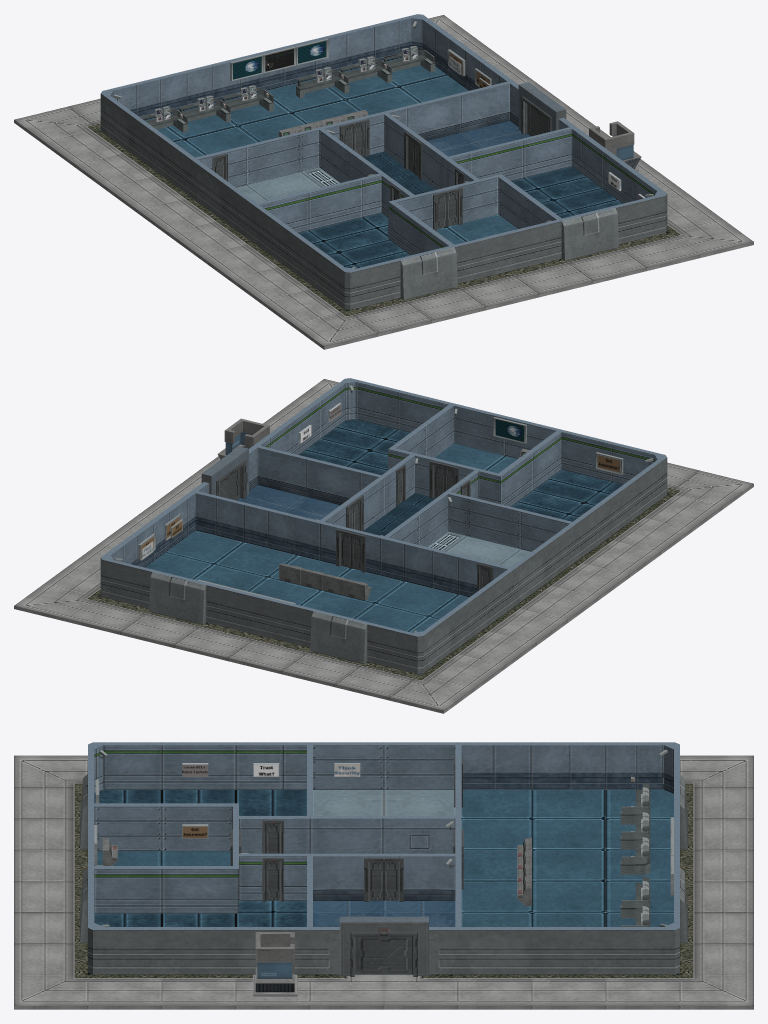
The model's file is office6-v2.fbx.
The picture shows the model from 3 angles, top to bottom: view 1: azimuth 30°, elevation 25°; view 2: azimuth 150°, elevation 25°; view 3: azimuth 270°, elevation 25°; orthographic projection. The views are drawn at different scales.
Visible parts, largest first — view 1: wall, ground, entrance, gpost_structure, desk2, desk3, desk1, desk5, desk6, desk4; view 2: wall, ground, entrance, gpost_structure; view 3: ground, wall, entrance, blastdoor, gpost_structure, desk6, slidingdoor7, desk4, desk5, gpost_glass_PASS1, desk2, slidingdoor5 (+2 smaller).
Boxes of the visible parts, x1,y1,x2,y2 form: wall: (100, 14, 667, 309); ground: (14, 15, 753, 349); entrance: (518, 82, 566, 131); gpost_structure: (589, 121, 641, 169); desk2: (296, 70, 349, 98); desk3: (383, 49, 435, 72); desk1: (340, 59, 392, 82); desk5: (179, 98, 230, 122); desk6: (222, 88, 273, 111); desk4: (140, 109, 187, 132); wall: (100, 378, 667, 673); ground: (14, 379, 753, 713); entrance: (201, 446, 248, 495); gpost_structure: (217, 418, 269, 459); ground: (14, 755, 753, 1009); wall: (80, 742, 687, 976); entrance: (339, 916, 428, 975); blastdoor: (354, 936, 413, 974); gpost_structure: (255, 932, 294, 992); desk6: (620, 833, 650, 874); slidingdoor7: (265, 861, 280, 900); desk4: (620, 783, 650, 824); desk5: (620, 808, 650, 849); gpost_glass_PASS1: (257, 962, 292, 978); desk2: (620, 876, 650, 918); slidingdoor5: (369, 861, 383, 900).
Bounding box in the file's own units: 36.58 × 3.91 × 45.72.
